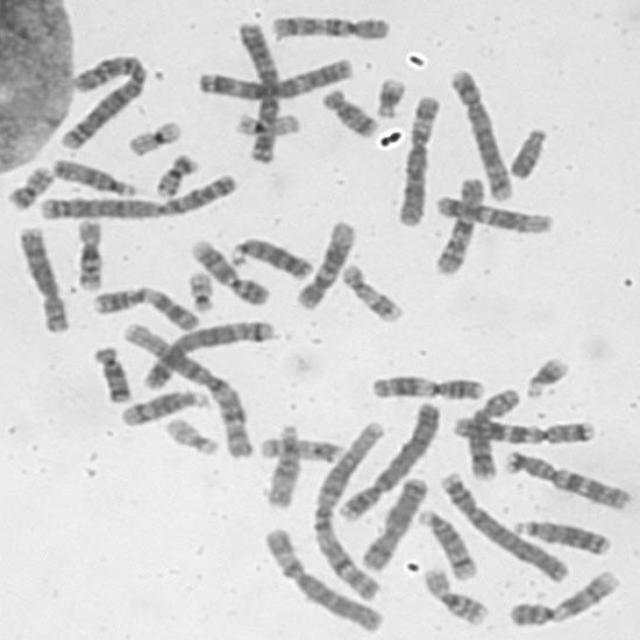A1: (118, 318, 258, 460), (308, 418, 391, 596)
A2: (35, 171, 237, 222), (56, 50, 149, 152)
A3: (234, 16, 283, 168), (195, 54, 355, 100)
B4: (437, 468, 572, 584), (334, 396, 443, 524)
B5: (141, 316, 277, 390), (446, 64, 516, 202)
C10: (430, 172, 488, 277), (265, 10, 391, 42)
C11: (89, 284, 202, 332), (366, 371, 488, 403)
C12: (291, 216, 357, 312), (432, 193, 555, 236)
C6: (258, 522, 389, 634), (394, 90, 444, 228)
C7: (499, 445, 634, 512), (446, 411, 599, 446)
C8: (12, 221, 73, 334), (462, 382, 526, 482)
C9: (505, 567, 623, 628), (186, 234, 271, 306)
D13: (508, 514, 614, 558), (225, 233, 314, 282)
D14: (413, 505, 480, 580), (115, 386, 212, 428)
D15: (48, 154, 141, 199), (263, 421, 301, 509)
E16: (417, 563, 491, 627), (71, 214, 107, 293)
E17: (338, 258, 406, 324), (256, 432, 346, 465)
E18: (319, 85, 380, 139), (87, 342, 133, 404)
F19: (123, 116, 184, 157), (230, 108, 302, 138)
F20: (2, 162, 56, 211), (150, 149, 201, 200)
G21: (519, 352, 572, 401), (372, 73, 408, 121)
G22: (161, 413, 221, 456), (184, 267, 217, 314)
X: (357, 473, 431, 573)
Y: (505, 124, 550, 180)
